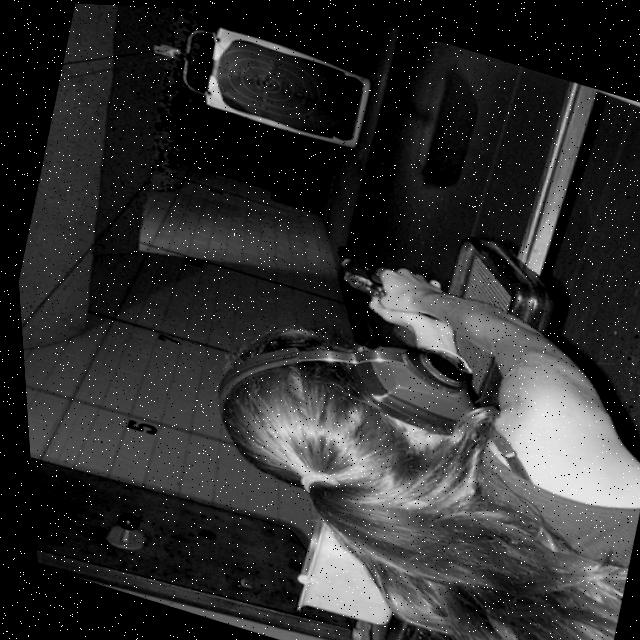pistol: (321, 236, 393, 297)
